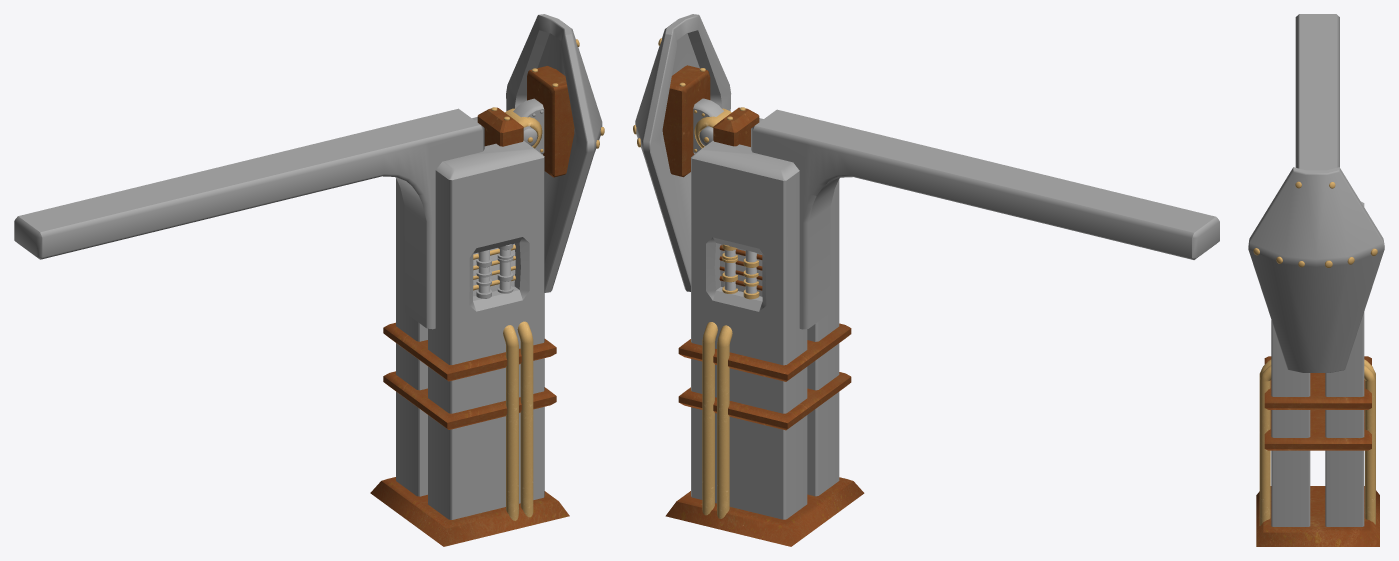
File: Bridge_02.fbx
3 views of the same model, side by side, from view 1: azimuth 30°, elevation 25°; view 2: azimuth 150°, elevation 25°; view 3: azimuth 270°, elevation 25° (orthographic). The views are drawn at different scales.
Parts seen in each view (by area): view 1: Bridge_02; view 2: Bridge_02; view 3: Bridge_02.
Boxes of the visible parts, x1,y1,x2,y2 form: Bridge_02: (14,14,604,546); Bridge_02: (633,14,1219,546); Bridge_02: (1248,14,1384,546).
Size of the model in its own units: 444 by 347 by 111.
